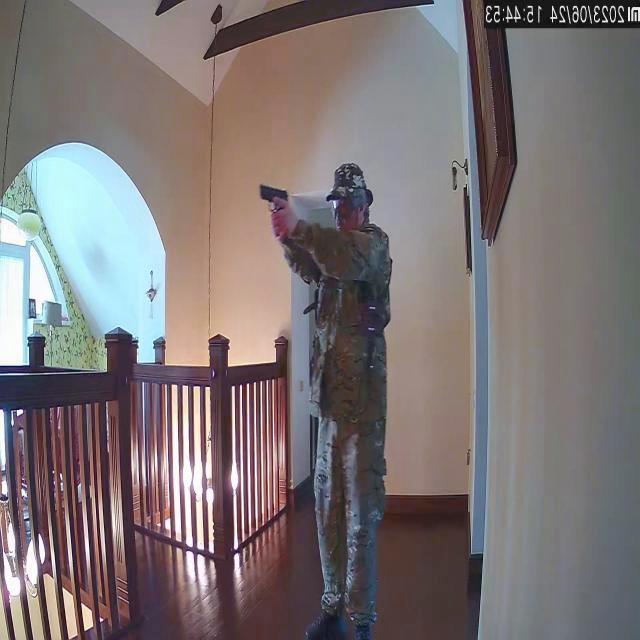gun: (252, 158, 389, 636), (257, 180, 289, 233)
